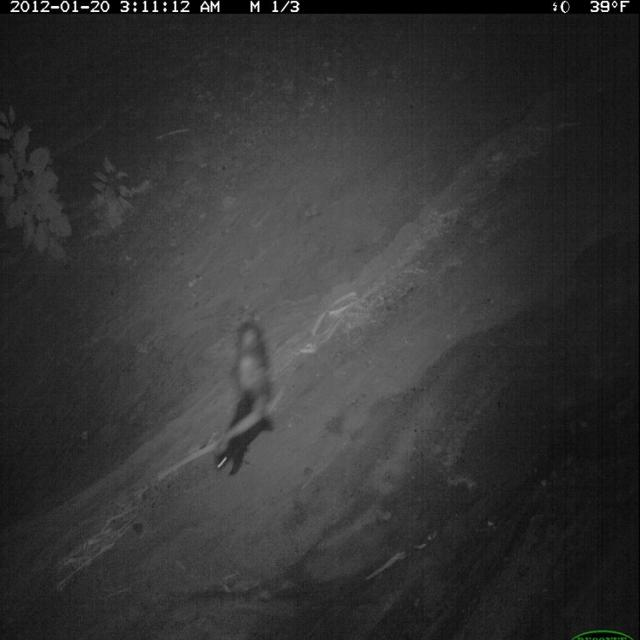skunk: (206, 315, 283, 486)
